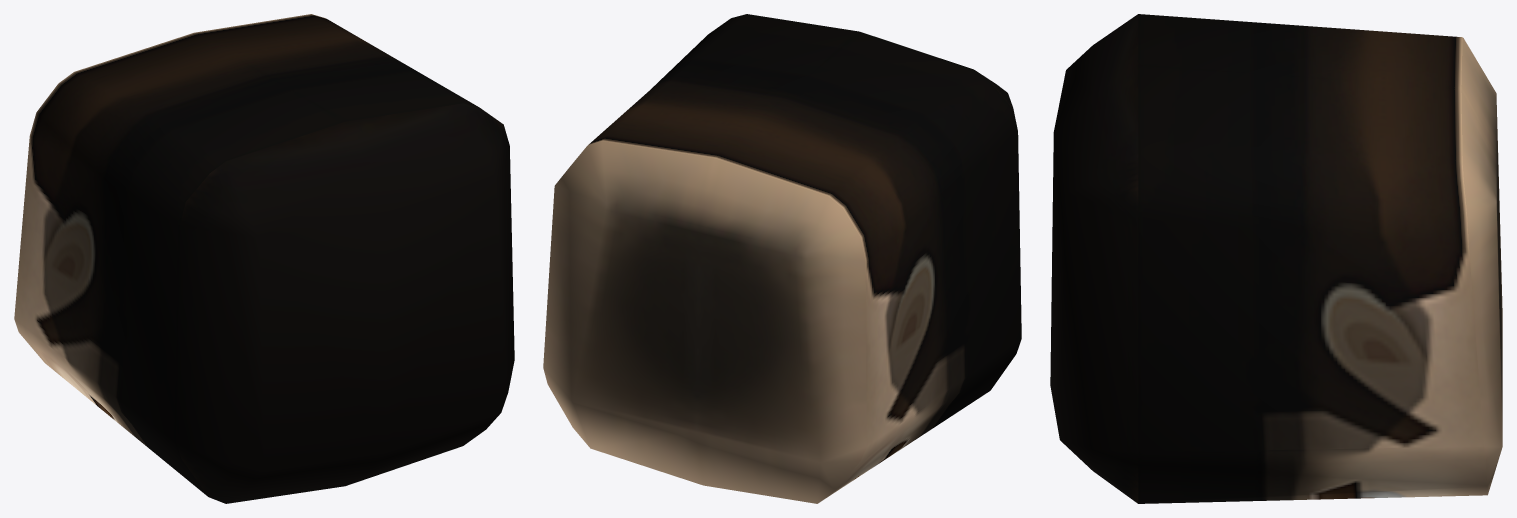
File: Avatar_Mike_H_Head_ec4d8ebe__Avatar_Mike_L_C_8ac8ec79_c1f257.obj
The picture shows the model from 3 angles, left to right: view 1: azimuth 30°, elevation 25°; view 2: azimuth 150°, elevation 25°; view 3: azimuth 270°, elevation 25°; orthographic projection. The views are drawn at different scales.
Size of the model in its own units: 0.6857 by 0.7049 by 0.7416.
Materials: 1 (1 with a texture image).
